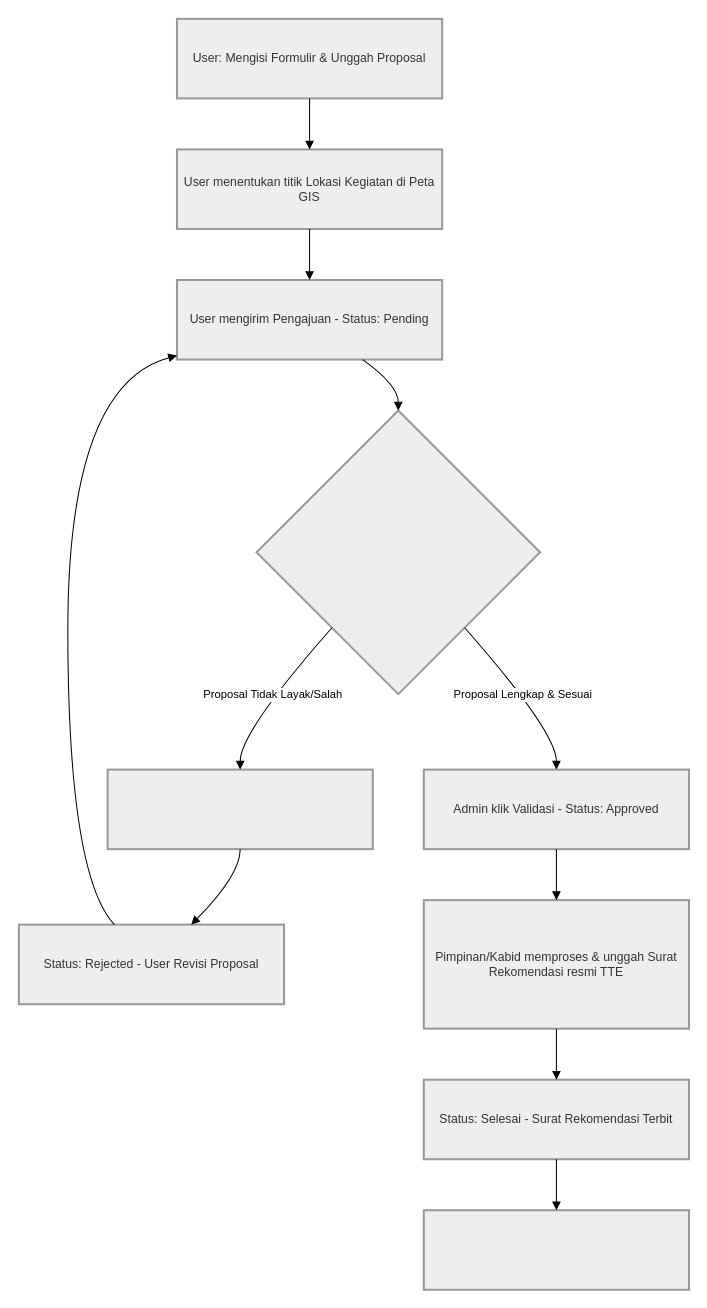
The diagram is 707 pixels wide and 1308 high, and some of its shapes have lost their labels. The box of each missing label's shape, as (x1, y1, x2, y2) in pixels:
Admin klik Tolak & Catat Alasan: (106, 768, 373, 850)
User mengunduh Surat Rekomendasi resmi PDF: (422, 1209, 690, 1290)
Verifikasi Admin Kesbangpol?: (255, 409, 541, 695)
